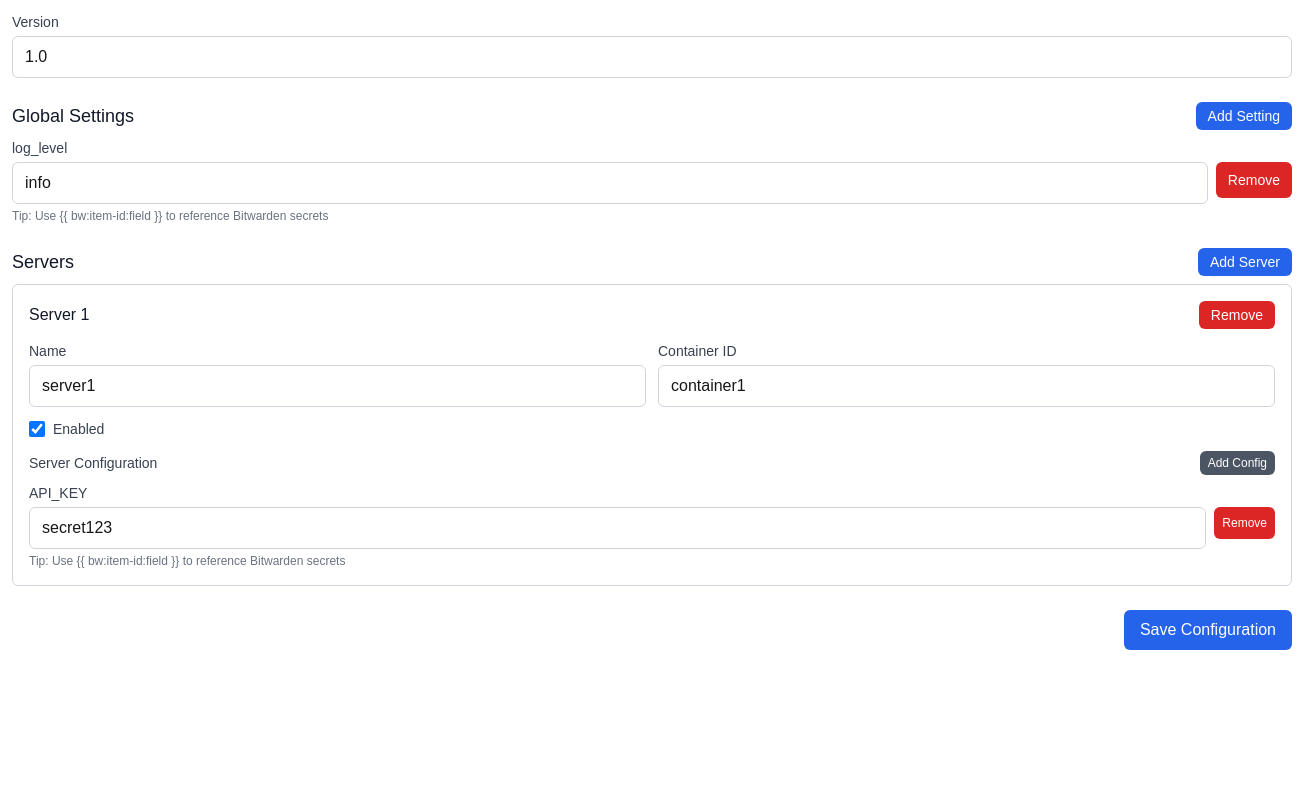
Test case: ConfigForm › adds a server
Click the button "Add Server" at (1245, 262), box [1198, 248, 1292, 276]
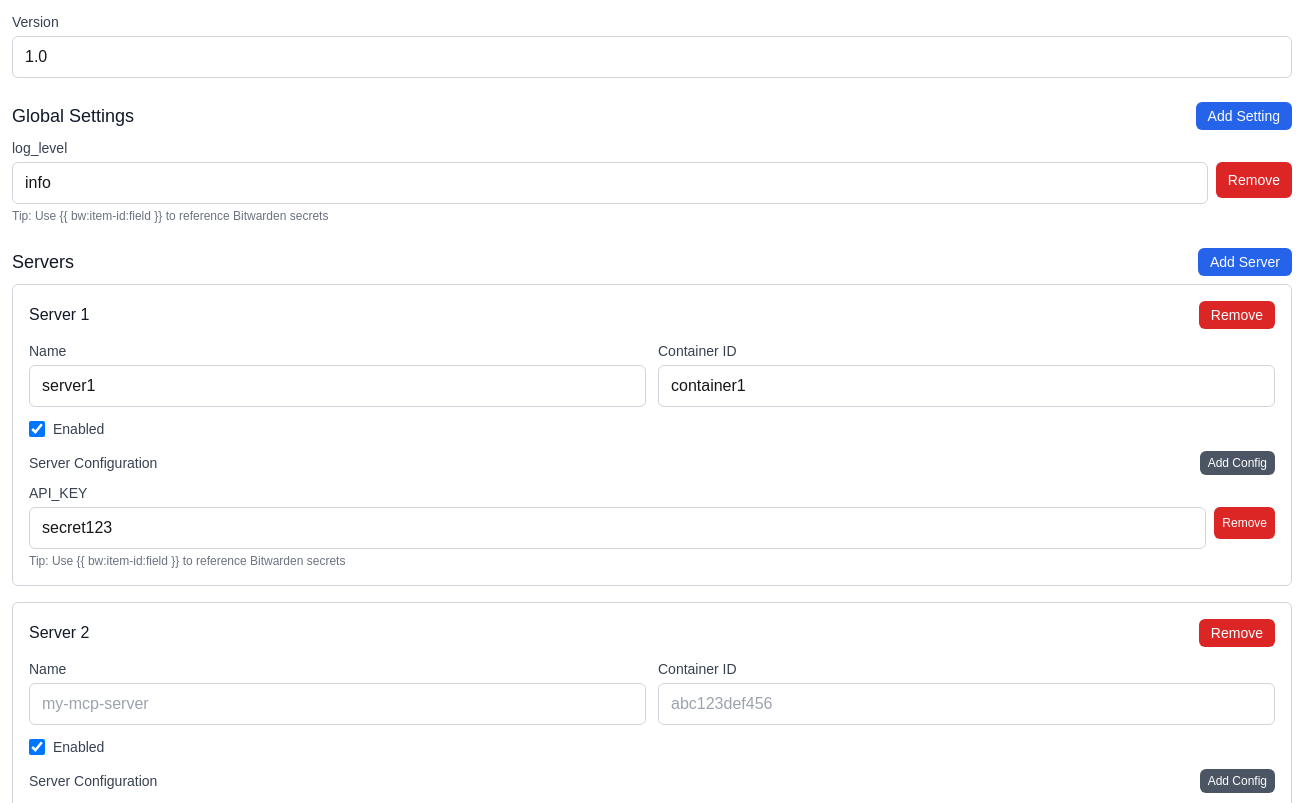
Result: the heading "Server 2" is shown at [29, 621, 90, 645]
